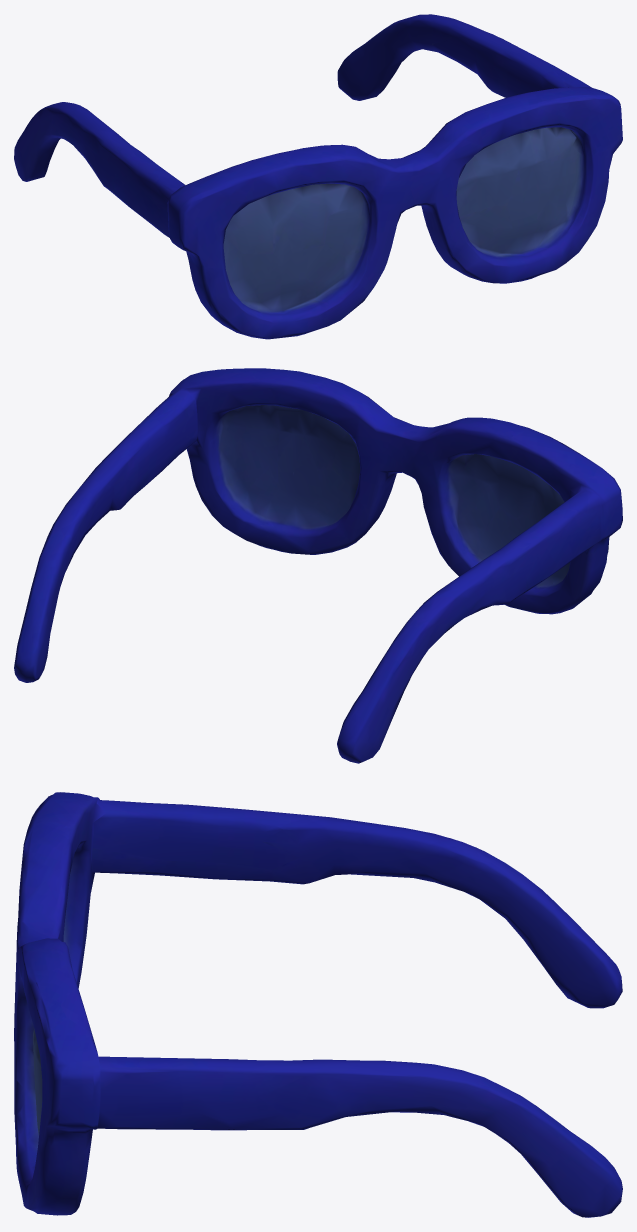
Rendered from glasses-casual.glb.
3 views of the same model, one above another, from view 1: azimuth 30°, elevation 25°; view 2: azimuth 150°, elevation 25°; view 3: azimuth 270°, elevation 25° (orthographic). The views are drawn at different scales.
Parts seen in each view (by area): view 1: glasses-casual; view 2: glasses-casual; view 3: glasses-casual.
Boxes of the visible parts, bbox=[...] form: glasses-casual: bbox=[14, 14, 622, 339]; glasses-casual: bbox=[14, 368, 622, 763]; glasses-casual: bbox=[14, 792, 622, 1217].
Size of the model in its own units: 1 by 0.3792 by 0.9191.
Materials: 1 (1 with a texture image).
